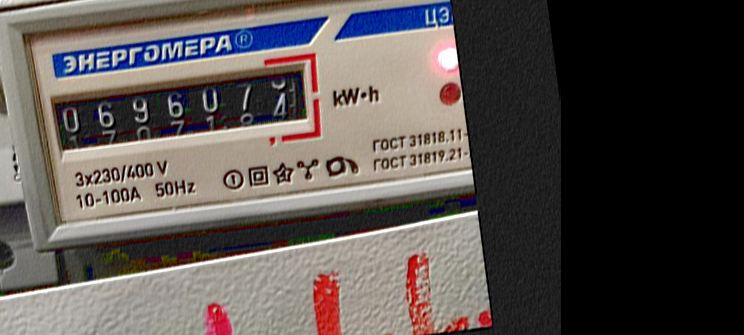0: (59, 102, 83, 135), (199, 83, 222, 114)
4: (268, 89, 290, 121)
6: (164, 88, 187, 121), (94, 98, 117, 129)
7: (234, 78, 256, 111)
9: (129, 93, 153, 124)
screen: (37, 45, 330, 173)
